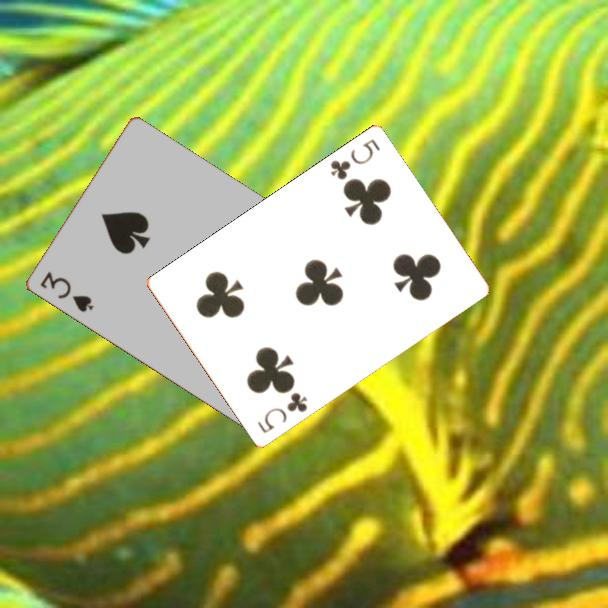c05: (254, 389, 310, 437), (326, 136, 383, 183)
s03: (36, 268, 97, 315)
